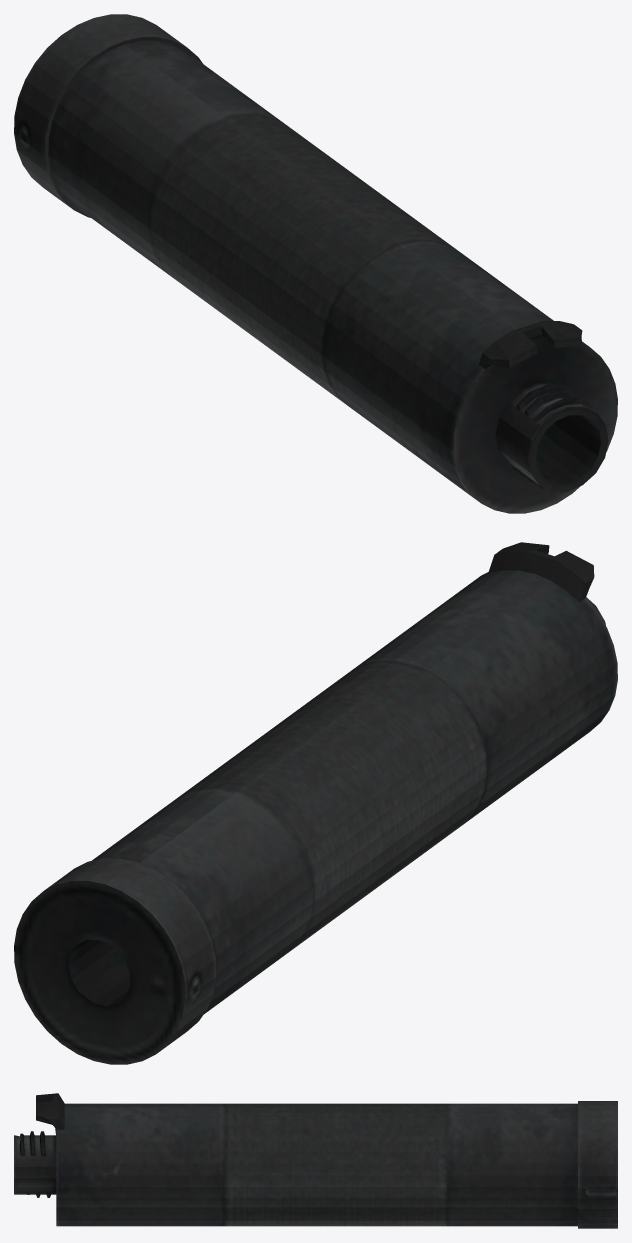
3 renders of one model, top to bottom at view 1: azimuth 30°, elevation 25°; view 2: azimuth 150°, elevation 25°; view 3: azimuth 270°, elevation 25°, orthographic. The views are drawn at different scales.
Parts seen in each view (by area): view 1: TW_56e05b06d2720bb2668b4586_PZ_Import; view 2: TW_56e05b06d2720bb2668b4586_PZ_Import; view 3: TW_56e05b06d2720bb2668b4586_PZ_Import.
Boxes of the visible parts, x1,y1,x2,y2 form: TW_56e05b06d2720bb2668b4586_PZ_Import: (14,14,617,513); TW_56e05b06d2720bb2668b4586_PZ_Import: (14,542,617,1064); TW_56e05b06d2720bb2668b4586_PZ_Import: (14,1093,617,1228).
Bounding box in the file's own units: 0.0189 × 0.0893 × 0.02.
Materials: 1 (1 with a texture image).
